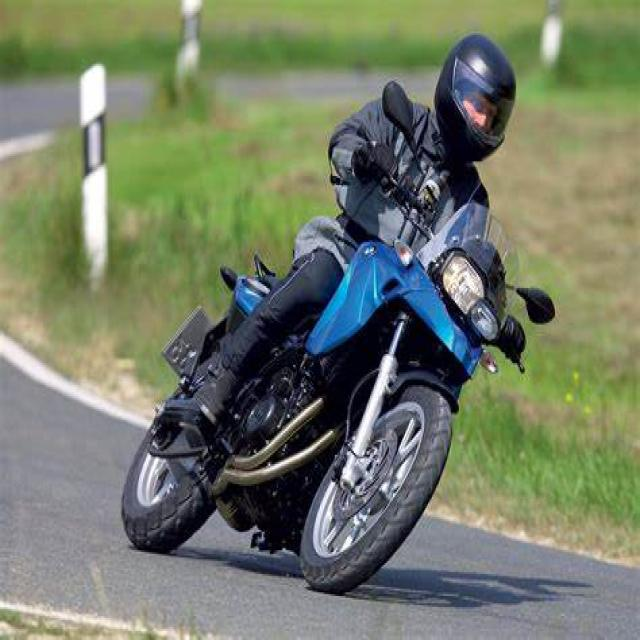helmet: (430, 29, 519, 168)
